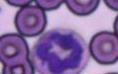N: (31, 28, 90, 74)
